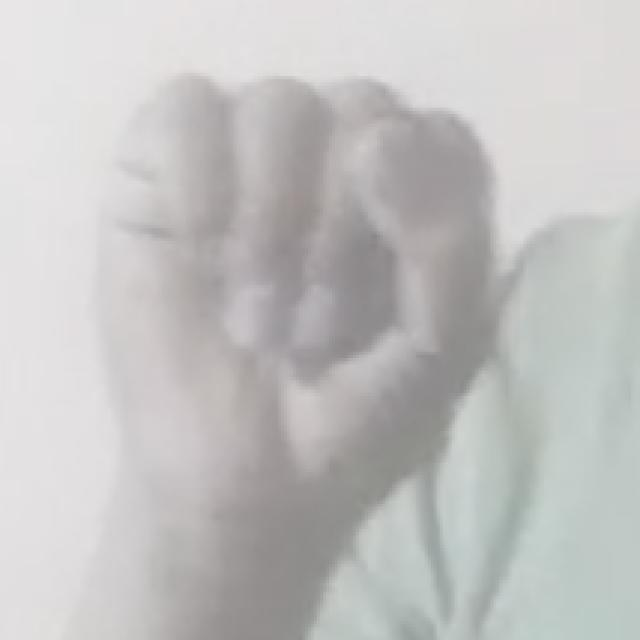S: (84, 70, 514, 549)
